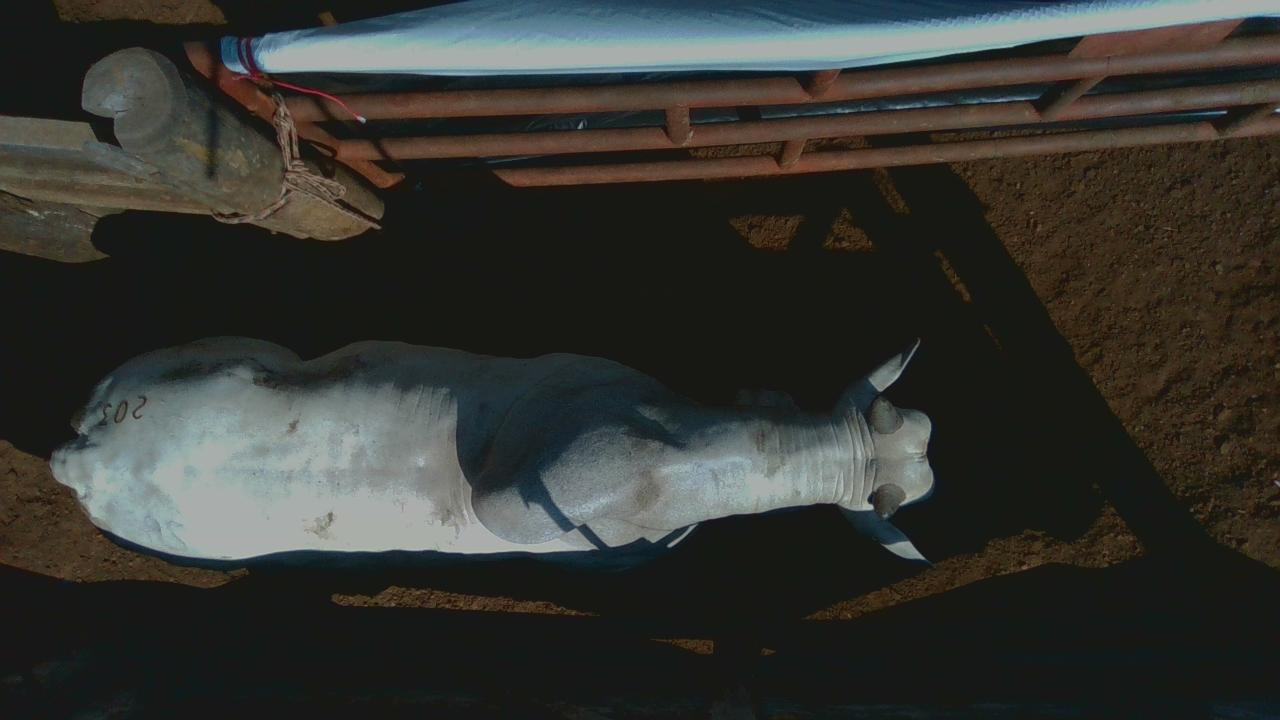cattle: (49, 332, 936, 572)
